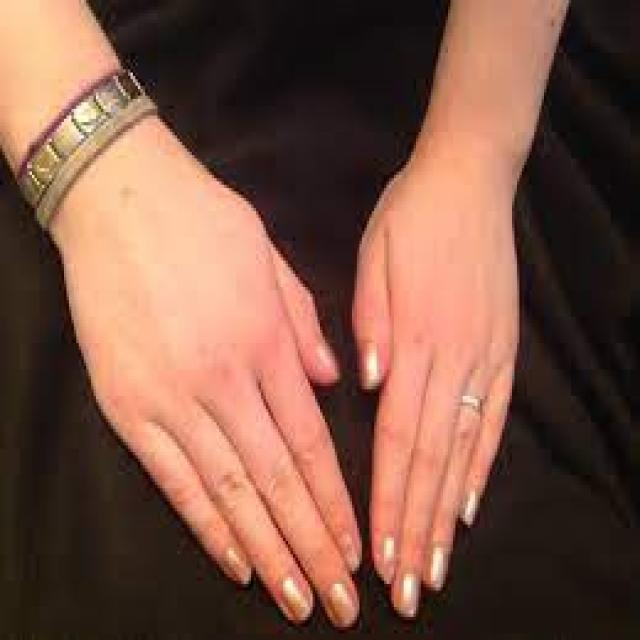no-gloves: (52, 113, 362, 632), (355, 151, 523, 618)
